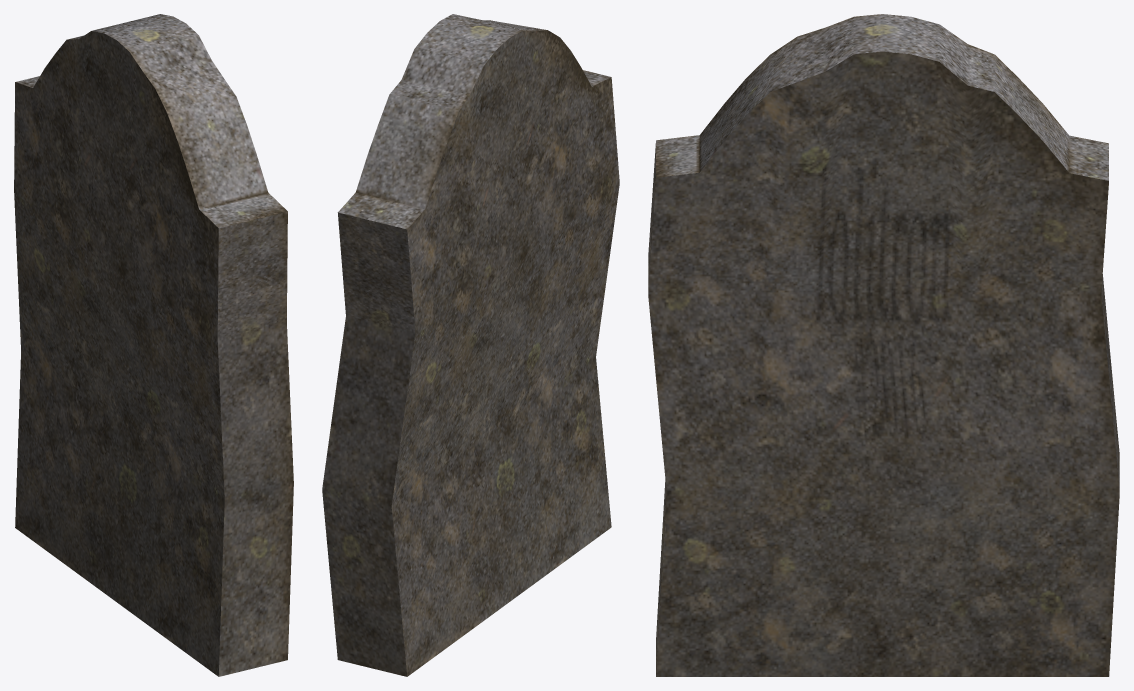
Rendered from gravestone1_alt.glb.
3 renders of one model, left to right at view 1: azimuth 30°, elevation 25°; view 2: azimuth 150°, elevation 25°; view 3: azimuth 270°, elevation 25°, orthographic. The views are drawn at different scales.
Visible parts, largest first — view 1: Grave2_Graves_0; view 2: Grave2_Graves_0; view 3: Grave2_Graves_0.
Boxes of the visible parts, box(x1,y1,x2,y2) form: Grave2_Graves_0: box(14, 14, 293, 676); Grave2_Graves_0: box(322, 14, 619, 676); Grave2_Graves_0: box(648, 14, 1119, 676).
Size of the model in its own units: 14.75 by 93.66 by 64.01.
Materials: 1 (1 with a texture image).
